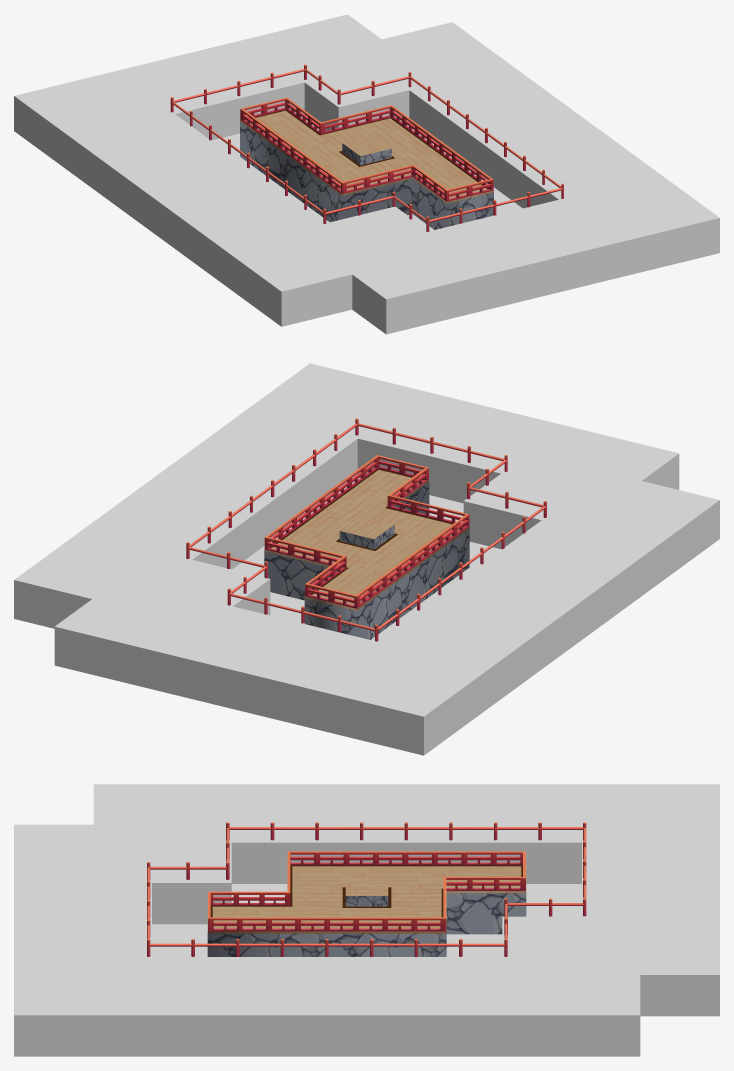
File: Boss_Stage 4 Variant.fbx
3 views of the same model, one above another, from view 1: azimuth 30°, elevation 25°; view 2: azimuth 150°, elevation 25°; view 3: azimuth 270°, elevation 25° (orthographic). The views are drawn at different scales.
Visible parts, largest first — view 1: Platform_Cube.006, Platform_Cube.004, Cube.200, Cube.208, Cube.216, Platform_Cube.005; view 2: Platform_Cube.006, Platform_Cube.004, Cube.200, Cube.208, Cube.216, Platform_Cube.005; view 3: Platform_Cube.006, Platform_Cube.004, Cube.200, Cube.208, Cube.216, Platform_Cube.005.
Boxes of the visible parts, <box> form: Platform_Cube.006: <box>14,14,719,334</box>; Platform_Cube.004: <box>240,110,493,229</box>; Cube.200: <box>240,97,493,201</box>; Cube.208: <box>171,69,562,222</box>; Cube.216: <box>170,64,563,231</box>; Platform_Cube.005: <box>245,109,488,196</box>; Platform_Cube.006: <box>14,363,719,755</box>; Platform_Cube.004: <box>264,470,469,639</box>; Cube.200: <box>264,455,469,608</box>; Cube.208: <box>188,423,545,631</box>; Cube.216: <box>186,418,546,641</box>; Platform_Cube.005: <box>270,468,463,602</box>; Platform_Cube.006: <box>14,784,719,1056</box>; Platform_Cube.004: <box>207,864,526,956</box>; Cube.200: <box>208,851,525,931</box>; Cube.208: <box>147,827,586,946</box>; Cube.216: <box>147,822,586,956</box>; Platform_Cube.005: <box>210,865,522,917</box>.
Bounding box in the file's own units: 10300 × 1246 × 13300.
